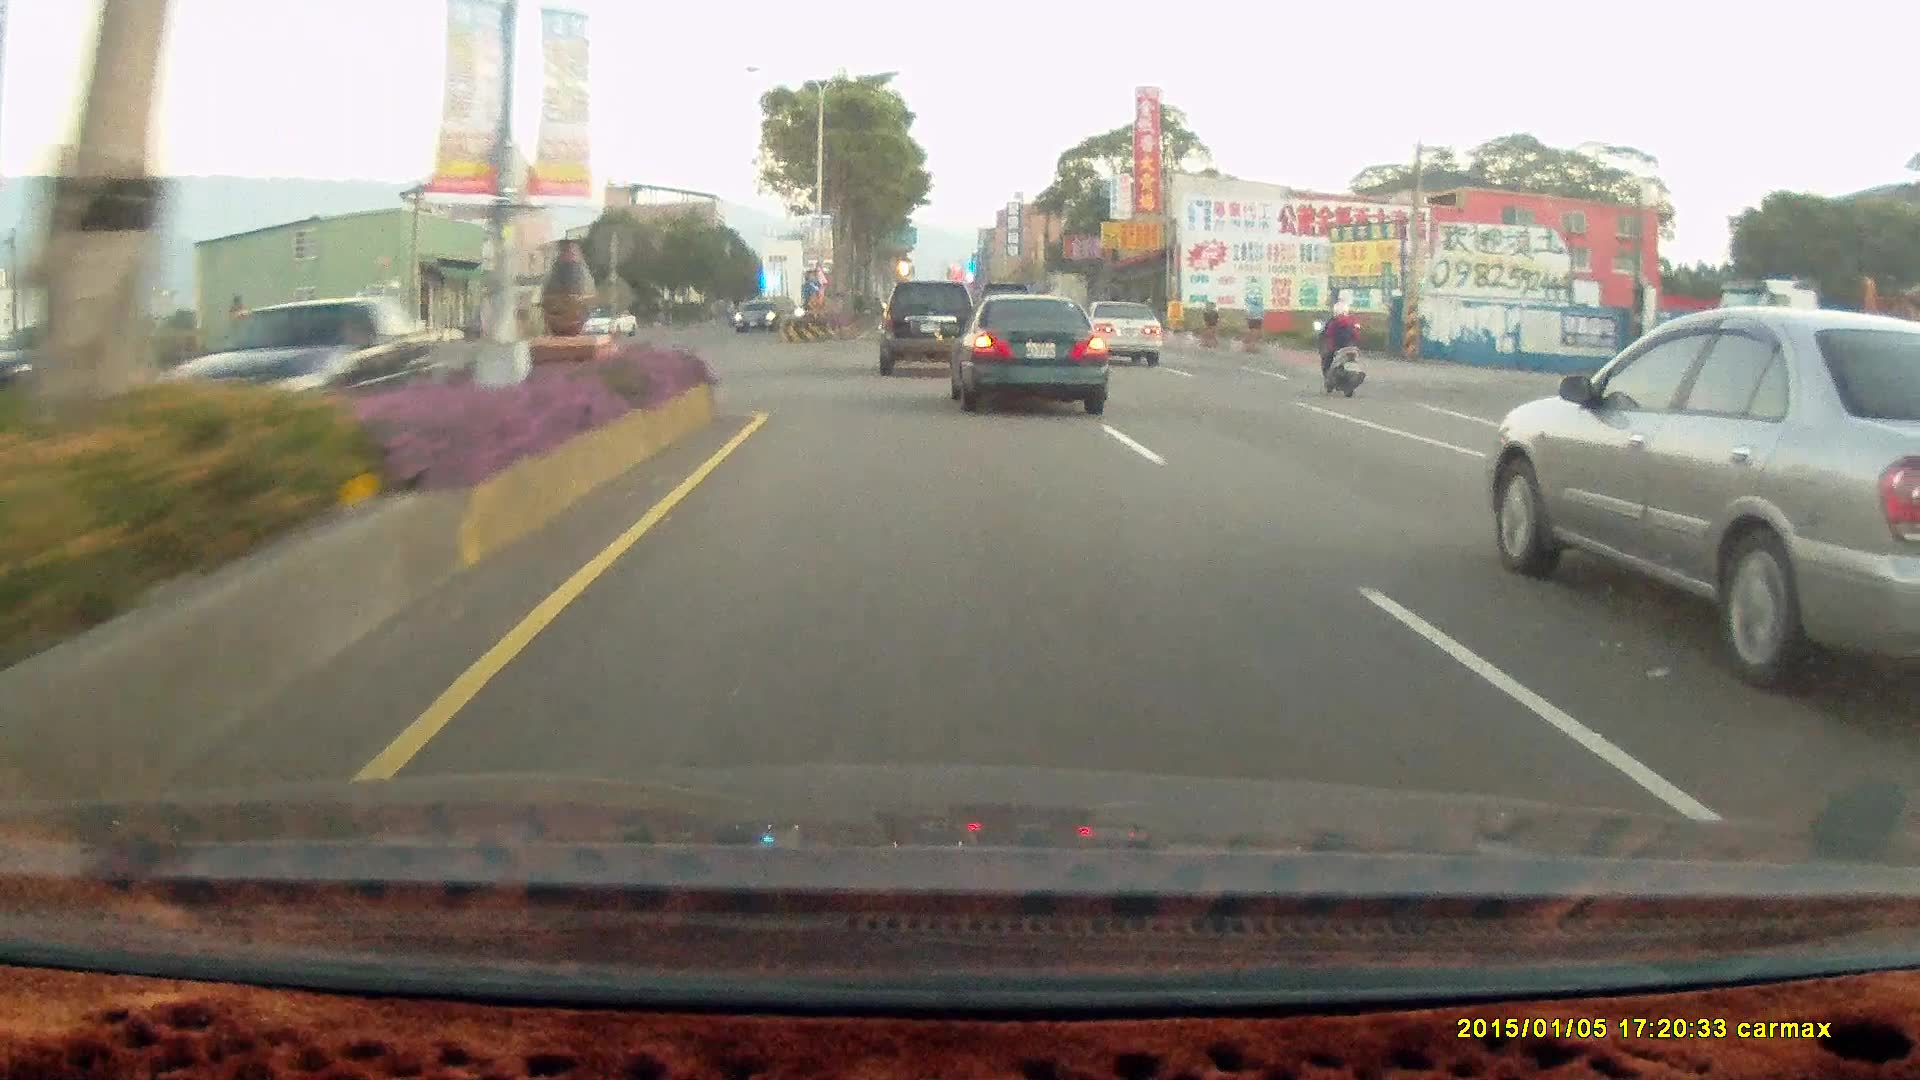rider: (1302, 285, 1376, 407), (1309, 296, 1365, 394)
vehicle: (1488, 302, 1920, 685), (149, 299, 469, 443), (145, 298, 456, 444), (956, 296, 1116, 416), (937, 291, 1099, 410), (880, 277, 983, 376), (876, 279, 975, 375), (1078, 296, 1164, 365), (1078, 296, 1163, 365), (732, 297, 782, 335), (580, 305, 638, 337), (732, 297, 778, 330)
